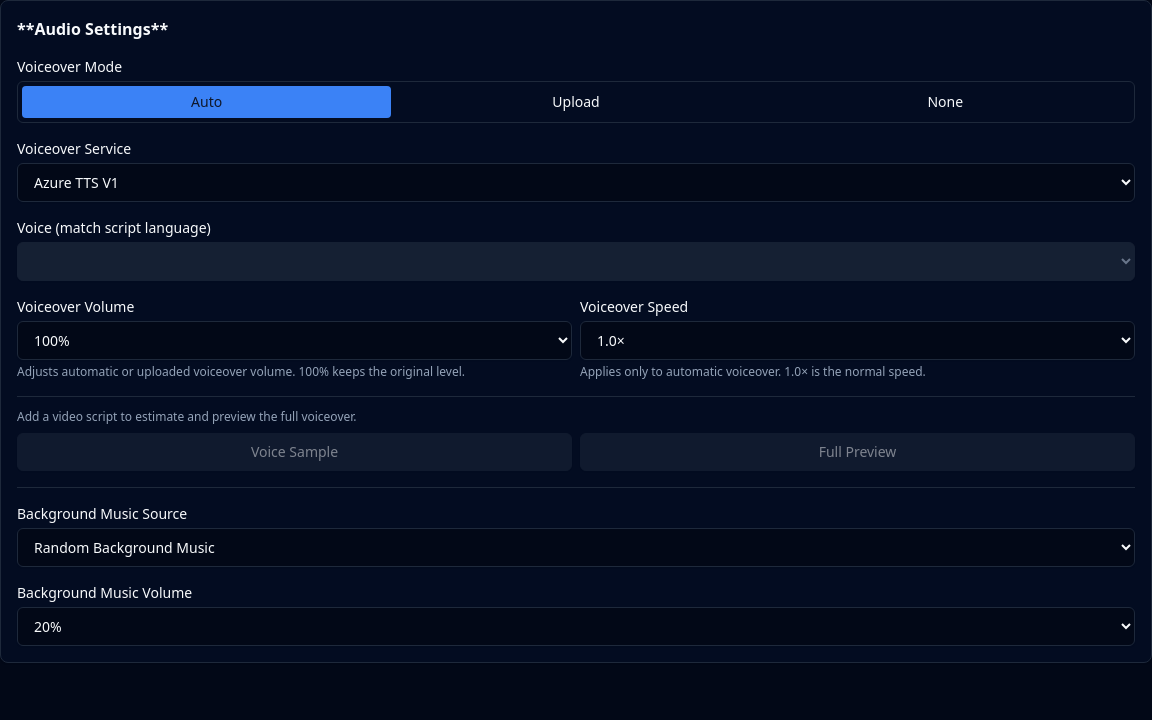
Test: AudioPanel › loads provider voices and switches cleanly to upload mode
Step 1. Click the radio button labelled "Upload" → point(576, 102), box x1=391 y1=86 x2=761 y2=118
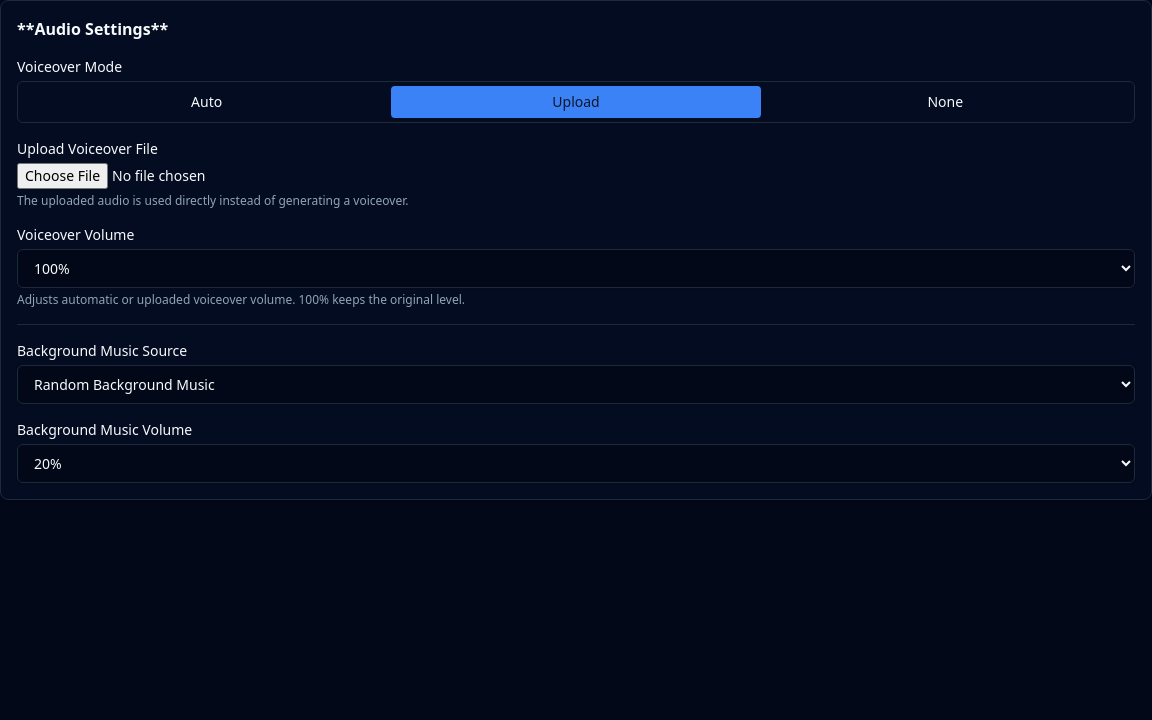
Now the label labelled "Voice (match script language)" is gone
Now the file field labelled "Upload Voiceover File" is shown, box x1=17 y1=163 x2=1135 y2=189
